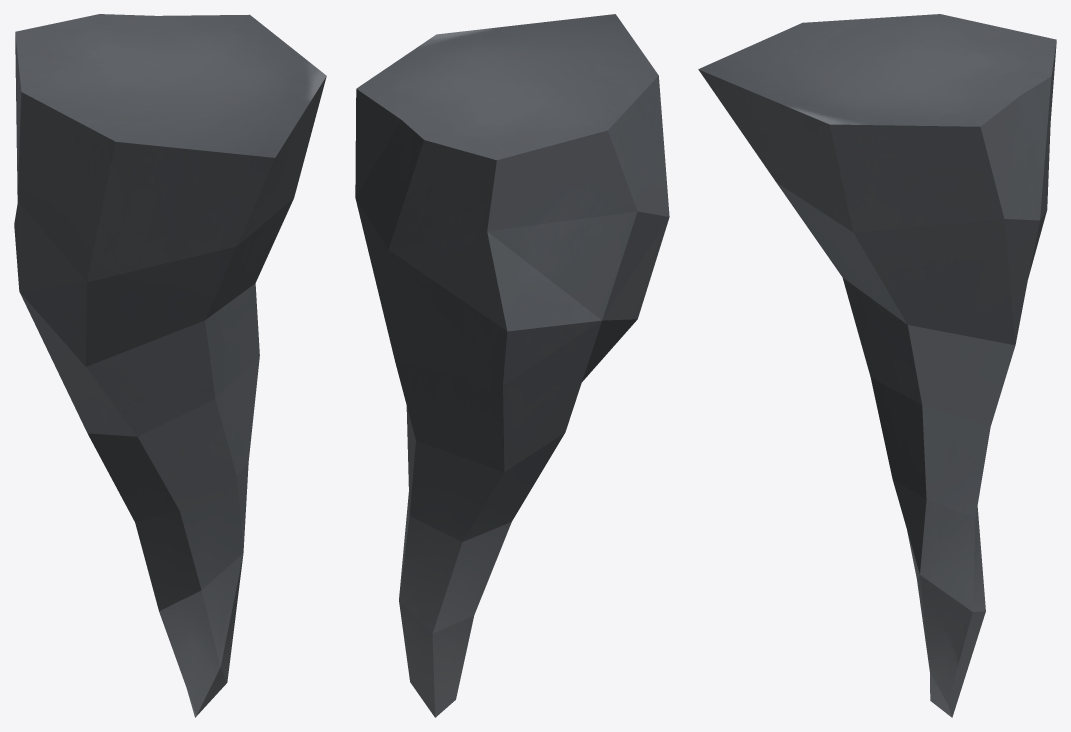
The model's file is Stalagtite_Small.fbx.
The picture shows the model from 3 angles, left to right: view 1: azimuth 30°, elevation 25°; view 2: azimuth 150°, elevation 25°; view 3: azimuth 270°, elevation 25°; orthographic projection. The views are drawn at different scales.
Visible parts, largest first — view 1: Stalagtite_Small; view 2: Stalagtite_Small; view 3: Stalagtite_Small.
Boxes of the visible parts, x1,y1,x2,y2 form: Stalagtite_Small: (14, 14, 326, 717); Stalagtite_Small: (355, 14, 669, 717); Stalagtite_Small: (698, 14, 1056, 717).
Size of the model in its own units: 56.69 by 136 by 71.09.
